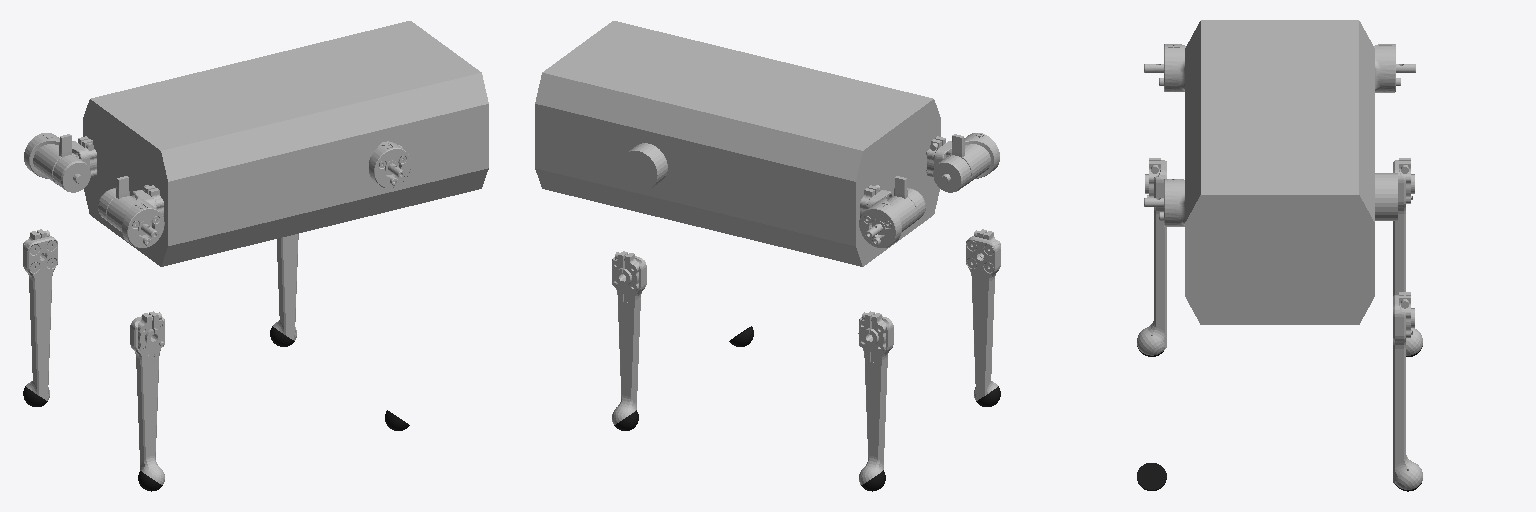
--- What the picture shows (computed from the rendered views, not written in the file) ---
The picture shows the robot from 3 angles, left to right: view 1: azimuth 30°, elevation 25°; view 2: azimuth 150°, elevation 25°; view 3: azimuth 270°, elevation 25°; orthographic projection.
Model pupperv2_description with 25 links and 24 joints (12 revolute, 12 fixed), rooted at base_link, posed every joint at zero.
Links seen in each view (by area): view 1: base_link, RR_lower_leg, RL_lower_leg, RL_hip, RR_hip, FL_lower_leg, FR_hip; view 2: base_link, RL_lower_leg, FL_lower_leg, RR_lower_leg, RR_hip, RL_hip, FL_hip; view 3: base_link, FL_lower_leg, RR_lower_leg, RL_lower_leg, RL_hip, FR_hip, RR_hip, FL_hip, FR_toe.
Link boxes in pixels (x1=…): base_link: x1=83, y1=21, x2=488, y2=266; RR_lower_leg: x1=130, y1=311, x2=164, y2=484; RL_lower_leg: x1=23, y1=229, x2=57, y2=400; RL_hip: x1=24, y1=133, x2=97, y2=192; RR_hip: x1=98, y1=176, x2=164, y2=247; FL_lower_leg: x1=273, y1=234, x2=298, y2=340; FR_hip: x1=369, y1=141, x2=410, y2=187; base_link: x1=535, y1=21, x2=940, y2=266; RL_lower_leg: x1=858, y1=311, x2=893, y2=484; FL_lower_leg: x1=612, y1=251, x2=646, y2=424; RR_lower_leg: x1=966, y1=229, x2=1000, y2=400; RR_hip: x1=926, y1=133, x2=999, y2=192; RL_hip: x1=859, y1=176, x2=925, y2=247; FL_hip: x1=620, y1=143, x2=667, y2=190; base_link: x1=1185, y1=20, x2=1374, y2=324; FL_lower_leg: x1=1393, y1=292, x2=1422, y2=489; RR_lower_leg: x1=1137, y1=158, x2=1166, y2=355; RL_lower_leg: x1=1393, y1=158, x2=1422, y2=355; RL_hip: x1=1374, y1=44, x2=1415, y2=92; FR_hip: x1=1144, y1=179, x2=1184, y2=226; RR_hip: x1=1144, y1=44, x2=1185, y2=91; FL_hip: x1=1375, y1=173, x2=1397, y2=220; FR_toe: x1=1137, y1=463, x2=1166, y2=490.
Size in the robot's own frame: 0.3005 by 0.1804 by 0.2445 metres.
11 mesh visuals loaded from 18 distinct referenced files (10 binary STL, 1 OBJ); not drawn: 7 (reference not matched to a file when rendering).

The robot description file, URDF, robot "pupperv2_description":
<?xml version="1.0" encoding="utf-8"?>
<!-- =================================================================================== -->
<!-- |    This document was autogenerated by xacro from pupperv2_description_lite.urdf.xacro | -->
<!-- |    EDITING THIS FILE BY HAND IS NOT RECOMMENDED                                 | -->
<!-- =================================================================================== -->
<!-- This URDF was automatically created by SolidWorks to URDF Exporter! Originally created by Stephen Brawner ([email redacted]) 
     Commit Version: 1.5.1-0-g916b5db  Build Version: 1.5.7152.31018
     For more information, please see http://wiki.ros.org/sw_urdf_exporter -->
<robot name="pupperv2_description">
  <!-- Enable Gazebo ROS Control -->
  <gazebo>
    <plugin filename="libgazebo_ros_control.so" name="gazebo_ros_control">
      <legacyModeNS>true</legacyModeNS>
      <robotSimType>gazebo_ros_control/DefaultRobotHWSim</robotSimType>
    </plugin>
  </gazebo>
  <joint name="hokuyo_joint" type="fixed">
    <origin rpy="0 0 0" xyz="0.0 0.0 0.08661"/>
    <parent link="base_link"/>
    <child link="hokuyo_frame"/>
  </joint>
  <link name="hokuyo_frame">
    <inertial>
      <mass value="0.270"/>
      <origin rpy="0 0 0" xyz="0 0 0"/>
      <inertia ixx="2.632e-4" ixy="0" ixz="0" iyy="2.632e-4" iyz="0" izz="1.62e-4"/>
    </inertial>
    <visual>
      <origin rpy="0 0 0" xyz="0 0 0"/>
      <geometry>
        <mesh filename="package://hector_sensors_description/meshes/hokuyo_utm30lx/hokuyo_utm_30lx.dae"/>
      </geometry>
    </visual>
    <collision>
      <origin rpy="0 0 0" xyz="0 0 -0.0115"/>
      <geometry>
        <box size="0.058 0.058 0.087"/>
        <!--<mesh filename="package://hector_sensors_description/meshes/hokuyo_utm30lx/hokuyo_utm_30lx.stl"/>-->
      </geometry>
    </collision>
  </link>
  <gazebo reference="hokuyo_frame">
    <sensor name="hokuyo" type="ray">
      <always_on>true</always_on>
      <update_rate>30</update_rate>
      <pose>0 0 0 0 0 0</pose>
      <visualize>false</visualize>
      <ray>
        <scan>
          <horizontal>
            <samples>1040</samples>
            <resolution>1</resolution>
            <min_angle>2.26892802759</min_angle>
            <max_angle>-2.26892802759</max_angle>
          </horizontal>
        </scan>
        <range>
          <min>0.2</min>
          <max>30.0</max>
          <resolution>0.01</resolution>
        </range>
        <noise>
          <type>gaussian</type>
          <mean>0.0</mean>
          <stddev>0.004</stddev>
        </noise>
      </ray>
      <plugin filename="libgazebo_ros_laser.so" name="gazebo_ros_hokuyo_controller">
        <topicName>scan</topicName>
        <frameName>hokuyo_frame</frameName>
      </plugin>
    </sensor>
  </gazebo>
  <joint name="camera_joint" type="fixed">
    <origin rpy="0 0 0" xyz="0.13641 0.0 -0.05661"/>
    <parent link="base_link"/>
    <child link="camera_link"/>
  </joint>
  <link name="camera_link">
    <inertial>
      <mass value="0.200"/>
      <origin rpy="0 0 0" xyz="0 0 0"/>
      <inertia ixx="5.8083e-4" ixy="0" ixz="0" iyy="3.0833e-5" iyz="0" izz="5.9083e-4"/>
    </inertial>
    <visual>
      <origin rpy="0 0 0" xyz="0 0 0"/>
      <geometry>
        <mesh filename="package://hector_sensors_description/meshes/asus_camera/asus_camera_simple.dae"/>
      </geometry>
    </visual>
    <!--        
       <collision>
          <origin xyz="0 0 0" rpy="0 0 0" />
          <geometry>
            <box size="0.035 0.185 0.025"/>
          </geometry>
        </collision>
        -->
    <collision>
      <origin rpy="0 0 0" xyz="0 0 0"/>
      <geometry>
        <mesh filename="package://hector_sensors_description/meshes/asus_camera/asus_camera_simple.dae"/>
      </geometry>
    </collision>
  </link>
  <joint name="camera_depth_joint" type="fixed">
    <origin rpy="0 0 0" xyz="0.0 0.049 0.0"/>
    <parent link="camera_link"/>
    <child link="camera_depth_frame"/>
  </joint>
  <link name="camera_depth_frame"/>
  <joint name="camera_depth_optical_joint" type="fixed">
    <origin rpy="-1.57079632679 0.0 -1.57079632679" xyz="0 0 0"/>
    <parent link="camera_depth_frame"/>
    <child link="camera_depth_optical_frame"/>
  </joint>
  <link name="camera_depth_optical_frame"/>
  <joint name="camera_rgb_joint" type="fixed">
    <origin rpy="0 0 0" xyz="0.0 0.022 0.0"/>
    <parent link="camera_link"/>
    <child link="camera_rgb_frame"/>
  </joint>
  <link name="camera_rgb_frame"/>
  <joint name="camera_rgb_optical_joint" type="fixed">
    <origin rpy="-1.57079632679 0.0 -1.57079632679" xyz="0 0 0"/>
    <parent link="camera_rgb_frame"/>
    <child link="camera_rgb_optical_frame"/>
  </joint>
  <link name="camera_rgb_optical_frame"/>
  <!-- ASUS Xtion PRO camera for simulation -->
  <gazebo reference="camera_depth_frame">
    <sensor name="camera" type="depth">
      <update_rate>20</update_rate>
      <camera>
        <horizontal_fov>1.09606677025</horizontal_fov>
        <image>
          <format>R8G8B8</format>
          <width>640</width>
          <height>480</height>
        </image>
        <clip>
          <near>0.5</near>
          <far>9</far>
        </clip>
      </camera>
      <plugin filename="libgazebo_ros_openni_kinect.so" name="camera_camera_controller">
        <imageTopicName>camera/rgb/image_raw</imageTopicName>
        <cameraInfoTopicName>camera/rgb/camera_info</cameraInfoTopicName>
        <depthImageTopicName>camera/depth/image_raw</depthImageTopicName>
        <depthImageCameraInfoTopicName>camera/depth/camera_info</depthImageCameraInfoTopicName>
        <pointCloudTopicName>camera/depth/points</pointCloudTopicName>
        <frameName>camera_depth_optical_frame</frameName>
      </plugin>
    </sensor>
  </gazebo>
  <gazebo>
    <plugin filename="libhector_gazebo_ros_imu.so" name="imu_controller">
      <updateRate>50.0</updateRate>
      <bodyName>imu_link</bodyName>
      <topicName>imu/data</topicName>
      <accelDrift>0.005 0.005 0.005</accelDrift>
      <accelGaussianNoise>0.005 0.005 0.005</accelGaussianNoise>
      <rateDrift>0.005 0.005 0.005 </rateDrift>
      <rateGaussianNoise>0.005 0.005 0.005 </rateGaussianNoise>
      <headingDrift>0.005</headingDrift>
      <headingGaussianNoise>0.005</headingGaussianNoise>
    </plugin>
  </gazebo>
  <link name="imu_link">
    <inertial>
      <mass value="0.001"/>
      <origin rpy="0 0 0" xyz="0 0 0"/>
      <inertia ixx="1e-09" ixy="0.0" ixz="0.0" iyy="1e-09" iyz="0.0" izz="1e-09"/>
    </inertial>
  </link>
  <joint name="imu_joint" type="fixed">
    <parent link="base_link"/>
    <child link="imu_link"/>
  </joint>
  <!-- <xacro:include filename="$(find velodyne_description)/urdf/VLP-16.urdf.xacro"/>
        <xacro:VLP-16 parent="${base_name}" name="velodyne" topic="velodyne_points" hz="10" samples="1024" gpu="false" lasers="16" max_range="100">
            <origin xyz="0 0 ${base_height / 2}" rpy="0 0 0" />
        </xacro:VLP-16>
        <xacro:include filename="$(find champ_arm_description)/urdf/champ_arm.urdf.xacro" />
        <xacro:champ_arm parent="${base_name}">
            <origin xyz="0.07 0.0 ${base_height / 2}" rpy="0 0 0"/>
        </xacro:champ_arm> -->
  <gazebo>
    <plugin filename="libgazebo_ros_p3d.so" name="p3d_base_controller">
      <alwaysOn>true</alwaysOn>
      <updateRate>10.0</updateRate>
      <bodyName>base_link</bodyName>
      <topicName>odom/ground_truth</topicName>
      <gaussianNoise>0.01</gaussianNoise>
      <frameName>world</frameName>
      <xyzOffsets>0 0 0</xyzOffsets>
      <rpyOffsets>0 0 0</rpyOffsets>
    </plugin>
  </gazebo>
  <!-- Solidworks to URDF (Mostly) -->
  <link name="base_link">
    <visual>
      <origin rpy="0 0 0" xyz="0 0 0"/>
      <geometry>
        <mesh filename="package://pupperv2_description/obj_meshes/Cube003.obj"/>
      </geometry>
      <material name="">
        <color rgba="0.75294 0.75294 0.75294 1"/>
      </material>
    </visual>
    <collision>
      <origin rpy="0 0 0" xyz="0 0 0"/>
      <geometry>
        <mesh filename="package://pupperv2_description/obj_meshes/Cube003.obj"/>
      </geometry>
    </collision>
  </link>
  <link name="base_inertia">
    <inertial>
      <origin rpy="0 0 0" xyz="4.4516E-07 -2.0991E-07 3.7751E-06"/>
      <mass value="0.37691"/>
      <inertia ixx="0.00038775" ixy="1.1873E-06" ixz="-9.237E-07" iyy="0.00085802" iyz="1.7272E-07" izz="0.0010086"/>
    </inertial>
  </link>
  <joint name="base_link_base_inertia" type="fixed">
    <parent link="base_link"/>
    <child link="base_inertia"/>
  </joint>
  <link name="FL_hip">
    <inertial>
      <origin rpy="0 0 0" xyz="0.01877 0.0032945 0.00038989"/>
      <mass value="0.032035"/>
      <inertia ixx="5.9933E-06" ixy="4.4808E-07" ixz="2.4371E-10" iyy="2.9538E-06" iyz="6.1996E-08" izz="5.7278E-06"/>
    </inertial>
    <visual>
      <origin rpy="1.57079632679 0 0" xyz="0.00795 0.00329 0.00039"/>
      <geometry>
        <!--mesh
          filename="package://pupperv2_description/meshes/FL_hip.STL" /-->
        <cylinder length="0.0483" radius="0.0152"/>
      </geometry>
      <material name="">
        <color rgba="0.75294 0.75294 0.75294 1"/>
      </material>
    </visual>
    <collision>
      <origin rpy="0 0 0" xyz="0 0 0"/>
      <geometry>
        <!--mesh
          filename="package://pupperv2_description/meshes/FL_hip.STL" /-->
        <box size="0.03569 0.0483 0.025"/>
      </geometry>
    </collision>
  </link>
  <joint name="base_link_FL_hip" type="revolute">
    <origin rpy="0 0 0" xyz="0.036007 0.0466 0.00461"/>
    <parent link="base_link"/>
    <child link="FL_hip"/>
    <axis xyz="1 0 0"/>
    <limit effort="100" lower="-0.7854" upper="0.7854" velocity="2.5"/>
  </joint>
  <link name="FL_upper_leg">
    <inertial>
      <origin rpy="0 0 0" xyz="0.00011578 0.025203 -0.048064"/>
      <mass value="0.054665"/>
      <inertia ixx="2.4386E-05" ixy="1.682E-10" ixz="2.6061E-07" iyy="2.3437E-05" iyz="2.7137E-07" izz="6.6679E-06"/>
    </inertial>
    <visual>
      <origin rpy="0 0 0" xyz="0 0 0"/>
      <geometry>
        <mesh filename="package://pupperv2_description/meshes/FL_upper_leg.STL"/>
      </geometry>
      <material name="">
        <color rgba="0.75294 0.75294 0.75294 1"/>
      </material>
    </visual>
    <collision>
      <origin rpy="0 0 0" xyz="0 0 0"/>
      <geometry>
        <mesh filename="package://pupperv2_description/meshes/FL_upper_leg.STL"/>
      </geometry>
    </collision>
  </link>
  <joint name="FL_hip_FL_upper_leg" type="revolute">
    <origin rpy="0 0 0" xyz="0.01525 0.02535 0"/>
    <parent link="FL_hip"/>
    <child link="FL_upper_leg"/>
    <axis xyz="0 1 0"/>
    <limit effort="100" lower="-1.309" upper="4.4506" velocity="2.5"/>
  </joint>
  <link name="FL_lower_leg">
    <inertial>
      <origin rpy="0 0 0" xyz="0.00028051 0.0039614 -0.040452"/>
      <mass value="0.016718"/>
      <inertia ixx="1.8319E-05" ixy="-1.9835E-08" ixz="2.3453E-07" iyy="1.8546E-05" iyz="6.7626E-07" izz="5.5282E-07"/>
    </inertial>
    <visual>
      <origin rpy="0 0 0" xyz="0 0 0"/>
      <geometry>
        <mesh filename="package://pupperv2_description/meshes/FL_lower_leg.STL"/>
      </geometry>
      <material name="">
        <color rgba="0.75294 0.75294 0.75294 1"/>
      </material>
    </visual>
    <collision>
      <origin rpy="0 0 0" xyz="0 0 0"/>
      <geometry>
        <mesh filename="package://pupperv2_description/meshes/FL_lower_leg.STL"/>
      </geometry>
    </collision>
  </link>
  <joint name="FL_upper_leg_FL_lower_leg" type="revolute">
    <origin rpy="0 0 0" xyz="0 0 -0.08"/>
    <parent link="FL_upper_leg"/>
    <child link="FL_lower_leg"/>
    <axis xyz="0 1 0"/>
    <limit effort="100" lower="-2.8798" upper="2.8798" velocity="2.5"/>
  </joint>
  <link name="FL_toe">
    <inertial>
      <origin rpy="0 0 0" xyz="-0.002296 2.7756E-17 -0.0027362"/>
      <mass value="0.0018099"/>
      <inertia ixx="5.2131E-08" ixy="-1.9882E-24" ixz="1.137E-08" iyy="4.259E-08" iyz="-9.4483E-25" izz="5.6141E-08"/>
    </inertial>
    <visual>
      <origin rpy="0 0 0" xyz="0 0 0"/>
      <geometry>
        <mesh filename="package://pupperv2_description/meshes/FL_toe.STL"/>
      </geometry>
      <material name="">
        <color rgba="0.15294 0.15294 0.15294 1"/>
      </material>
    </visual>
    <collision>
      <origin rpy="0 0 0" xyz="0 0 0"/>
      <geometry>
        <mesh filename="package://pupperv2_description/meshes/FL_toe.STL"/>
      </geometry>
    </collision>
  </link>
  <joint name="FL_lower_leg_FL_toe" type="fixed">
    <origin rpy="0 0 0" xyz="0 0.008325 -0.11"/>
    <parent link="FL_lower_leg"/>
    <child link="FL_toe"/>
    <axis xyz="0.64279 0 0.76604"/>
  </joint>
  <link name="RL_hip">
    <inertial>
      <origin rpy="0 0 0" xyz="-0.022505 0.0032945 0.00038989"/>
      <mass value="0.032035"/>
      <inertia ixx="5.9933E-06" ixy="4.4808E-07" ixz="2.4371E-10" iyy="2.9538E-06" iyz="6.1996E-08" izz="5.7278E-06"/>
    </inertial>
    <visual>
      <origin rpy="0 0 0" xyz="0 0 0"/>
      <geometry>
        <mesh filename="package://pupperv2_description/meshes/RL_hip.STL"/>
      </geometry>
      <material name="">
        <color rgba="0.75294 0.75294 0.75294 1"/>
      </material>
    </visual>
    <collision>
      <origin rpy="0 0 0" xyz="0 0 0"/>
      <geometry>
        <mesh filename="package://pupperv2_description/meshes/RL_hip.STL"/>
      </geometry>
    </collision>
  </link>
  <joint name="base_link_RL_hip" type="revolute">
    <origin rpy="0 0 0" xyz="-0.12272 0.0466 0.00461"/>
    <parent link="base_link"/>
    <child link="RL_hip"/>
    <axis xyz="1 0 0"/>
    <limit effort="100" lower="-0.7854" upper="0.7854" velocity="2.5"/>
  </joint>
  <link name="RL_upper_leg">
    <inertial>
      <origin rpy="0 0 0" xyz="0.00011578 0.025203 -0.048064"/>
      <mass value="0.054665"/>
      <inertia ixx="2.4386E-05" ixy="1.682E-10" ixz="2.6061E-07" iyy="2.3437E-05" iyz="2.7137E-07" izz="6.6679E-06"/>
    </inertial>
    <visual>
      <origin rpy="0 0 0" xyz="0 0 0"/>
      <geometry>
        <mesh filename="package://pupperv2_description/meshes/RL_upper_leg.STL"/>
      </geometry>
      <material name="">
        <color rgba="0.75294 0.75294 0.75294 1"/>
      </material>
    </visual>
    <collision>
      <origin rpy="0 0 0" xyz="0 0 0"/>
      <geometry>
        <mesh filename="package://pupperv2_description/meshes/RL_upper_leg.STL"/>
      </geometry>
    </collision>
  </link>
  <joint name="RL_hip_RL_upper_leg" type="revolute">
    <origin rpy="0 0.0011305 0" xyz="-0.026025 0.02535 0"/>
    <parent link="RL_hip"/>
    <child link="RL_upper_leg"/>
    <axis xyz="0 1 0"/>
    <limit effort="100" lower="-1.309" upper="4.4506" velocity="2.5"/>
  </joint>
  <link name="RL_lower_leg">
    <inertial>
      <origin rpy="0 0 0" xyz="0.00028051 0.0039614 -0.040452"/>
      <mass value="0.016718"/>
      <inertia ixx="1.8319E-05" ixy="-1.9835E-08" ixz="2.3453E-07" iyy="1.8546E-05" iyz="6.7626E-07" izz="5.5282E-07"/>
    </inertial>
    <visual>
      <origin rpy="0 0 0" xyz="0 0 0"/>
      <geometry>
        <mesh filename="package://pupperv2_description/meshes/RL_lower_leg.STL"/>
      </geometry>
      <material name="">
        <color rgba="0.75294 0.75294 0.75294 1"/>
      </material>
    </visual>
    <collision>
      <origin rpy="0 0 0" xyz="0 0 0"/>
      <geometry>
        <mesh filename="package://pupperv2_description/meshes/RL_lower_leg.STL"/>
      </geometry>
    </collision>
  </link>
  <joint name="RL_upper_leg_RL_lower_leg" type="revolute">
    <origin rpy="0 -0.0011305 0" xyz="0 0 -0.08"/>
    <parent link="RL_upper_leg"/>
    <child link="RL_lower_leg"/>
    <axis xyz="0 1 0"/>
    <limit effort="100" lower="-2.8798" upper="2.8798" velocity="2.5"/>
  </joint>
  <link name="RL_toe">
    <inertial>
      <origin rpy="0 0 0" xyz="-0.002296 0 -0.0027362"/>
      <mass value="0.0018099"/>
      <inertia ixx="5.2131E-08" ixy="-1.082E-24" ixz="1.137E-08" iyy="4.259E-08" iyz="-9.2836E-25" izz="5.6141E-08"/>
    </inertial>
    <visual>
      <origin rpy="0 0 0" xyz="0 0 0"/>
      <geometry>
        <mesh filename="package://pupperv2_description/meshes/RL_toe.STL"/>
      </geometry>
      <material name="">
        <color rgba="0.15294 0.15294 0.15294 1"/>
      </material>
    </visual>
    <collision>
      <origin rpy="0 0 0" xyz="0 0 0"/>
      <geometry>
        <mesh filename="package://pupperv2_description/meshes/RL_toe.STL"/>
      </geometry>
    </collision>
  </link>
  <joint name="RL_lower_leg_RL_toe" type="fixed">
    <origin rpy="0 0 0" xyz="0 0.008325 -0.11"/>
    <parent link="RL_lower_leg"/>
    <child link="RL_toe"/>
    <axis xyz="0.64279 0 0.76604"/>
  </joint>
  <link name="FR_hip">
    <inertial>
      <origin rpy="0 0 0" xyz="0.018798 -0.0032741 0.00039709"/>
      <mass value="0.032069"/>
      <inertia ixx="5.9912E-06" ixy="-4.4714E-07" ixz="1.8534E-10" iyy="2.954E-06" iyz="-6.2909E-08" izz="5.7295E-06"/>
    </inertial>
    <visual>
      <origin rpy="0 0 0" xyz="0 0 0"/>
      <geometry>
        <mesh filename="package://pupperv2_description/meshes/FR_hip.STL"/>
      </geometry>
      <material name="">
        <color rgba="0.75294 0.75294 0.75294 1"/>
      </material>
    </visual>
    <collision>
      <origin rpy="0 0 0" xyz="0 0 0"/>
      <geometry>
        <mesh filename="package://pupperv2_description/meshes/FR_hip.STL"/>
      </geometry>
    </collision>
  </link>
  <joint name="base_link_FR_hip" type="revolute">
    <origin rpy="0 0 0" xyz="0.035885 -0.0474 0.00461"/>
    <parent link="base_link"/>
    <child link="FR_hip"/>
    <axis xyz="1 0 0"/>
    <limit effort="100" lower="-0.7854" upper="0.7854" velocity="2.5"/>
  </joint>
  <link name="FR_upper_leg">
    <inertial>
      <origin rpy="0 0 0" xyz="-0.00011578 -0.025203 -0.048064"/>
      <mass value="0.054665"/>
      <inertia ixx="2.4386E-05" ixy="1.682E-10" ixz="-2.6061E-07" iyy="2.3437E-05" iyz="-2.7137E-07" izz="6.6679E-06"/>
    </inertial>
    <visual>
      <origin rpy="0 0 0" xyz="0 0 0"/>
      <geometry>
        <mesh filename="package://pupperv2_description/meshes/FR_upper_leg.STL"/>
      </geometry>
      <material name="">
        <color rgba="0.75294 0.75294 0.75294 1"/>
      </material>
    </visual>
    <collision>
      <origin rpy="0 0 0" xyz="0 0 0"/>
      <geometry>
        <mesh filename="package://pupperv2_description/meshes/FR_upper_leg.STL"/>
      </geometry>
    </collision>
  </link>
  <joint name="FR_hip_FR_upper_leg" type="revolute">
    <origin rpy="0 0 0" xyz="0.015252 -0.02535 0"/>
    <parent link="FR_hip"/>
    <child link="FR_upper_leg"/>
    <axis xyz="0 1 0"/>
    <limit effort="100" lower="-4.4506" upper="1.309" velocity="2.5"/>
  </joint>
  <link name="FR_lower_leg">
    <inertial>
      <origin rpy="0 0 0" xyz="0.00028375 -0.0039771 -0.040393"/>
      <mass value="0.016741"/>
      <inertia ixx="1.8313E-05" ixy="1.9858E-08" ixz="2.3431E-07" iyy="1.854E-05" iyz="-6.769E-07" izz="5.5333E-07"/>
    </inertial>
    <visual>
      <origin rpy="0 0 0" xyz="0 0 0"/>
      <geometry>
        <mesh filename="package://pupperv2_description/meshes/FR_lower_leg.STL"/>
      </geometry>
      <material name="">
        <color rgba="0.75294 0.75294 0.75294 1"/>
      </material>
    </visual>
    <collision>
      <origin rpy="0 0 0" xyz="0 0 0"/>
      <geometry>
        <mesh filename="package://pupperv2_description/meshes/FR_lower_leg.STL"/>
      </geometry>
    </collision>
  </link>
  <joint name="FR_upper_leg_FR_lower_leg" type="revolute">
    <origin rpy="0 0 0" xyz="0 0 -0.08"/>
    <parent link="FR_upper_leg"/>
    <child link="FR_lower_leg"/>
    <axis xyz="0 1 0"/>
    <limit effort="100" lower="-2.8798" upper="2.8798" velocity="2.5"/>
  </joint>
  <link name="FR_toe">
    <inertial>
      <origin rpy="0 0 0" xyz="-0.002296 6.9389E-18 -0.0027362"/>
      <mass value="0.0018099"/>
      <inertia ixx="5.2131E-08" ixy="6.2047E-25" ixz="1.137E-08" iyy="4.259E-08" iyz="9.8352E-25" izz="5.6141E-08"/>
    </inertial>
    <visual>
      <origin rpy="0 0 0" xyz="0 0 0"/>
      <geometry>
        <mesh filename="package://pupperv2_description/meshes/FR_toe.STL"/>
      </geometry>
      <material name="">
        <color rgba="0.15294 0.15294 0.15294 1"/>
      </material>
    </visual>
    <collision>
      <origin rpy="0 0 0" xyz="0 0 0"/>
      <geometry>
        <mesh filename="package://pupperv2_description/meshes/FR_toe.STL"/>
      </geometry>
    </collision>
  </link>
  <joint name="FR_lower_leg_FR_toe" type="fixed">
    <origin rpy="0 0 0" xyz="0 -0.008325 -0.11"/>
    <parent link="FR_lower_leg"/>
    <child link="FR_toe"/>
    <axis xyz="0.64279 0 0.76604"/>
  </joint>
  <link name="RR_hip">
    <inertial>
      <origin rpy="0 0 0" xyz="-0.022479 -0.0032741 0.00039709"/>
      <mass value="0.032069"/>
      <inertia ixx="5.9912E-06" ixy="-4.4714E-07" ixz="1.8534E-10" iyy="2.954E-06" iyz="-6.2909E-08" izz="5.7295E-06"/>
    </inertial>
    <visual>
      <origin rpy="0 0 0" xyz="0 0 0"/>
      <geometry>
        <mesh filename="package://pupperv2_description/meshes/RR_hip.STL"/>
      </geometry>
      <material name="">
        <color rgba="0.75294 0.75294 0.75294 1"/>
      </material>
    </visual>
    <collision>
      <origin rpy="0 0 0" xyz="0 0 0"/>
      <geometry>
        <mesh filename="package://pupperv2_description/meshes/RR_hip.STL"/>
      </geometry>
    </collision>
  </link>
  <joint name="base_link_RR_hip" type="revolute">
    <origin rpy="0 0 0" xyz="-0.12284 -0.0474 0.00461"/>
    <parent link="base_link"/>
    <child link="RR_hip"/>
    <axis xyz="1 0 0"/>
    <limit effort="100" lower="-0.7854" upper="0.7854" velocity="2.5"/>
  </joint>
  <link name="RR_upper_leg">
    <inertial>
      <origin rpy="0 0 0" xyz="-0.00011578 -0.025203 -0.048064"/>
      <mass value="0.054665"/>
      <inertia ixx="2.4386E-05" ixy="1.682E-10" ixz="-2.6061E-07" iyy="2.3437E-05" iyz="-2.7137E-07" izz="6.6679E-06"/>
    </inertial>
    <visual>
      <origin rpy="0 0 0" xyz="0 0 0"/>
      <geometry>
        <mesh filename="package://pupperv2_description/meshes/RR_upper_leg.STL"/>
      </geometry>
      <material name="">
        <color rgba="0.75294 0.75294 0.75294 1"/>
      </material>
    </visual>
    <collision>
      <origin rpy="0 0 0" xyz="0 0 0"/>
      <geometry>
        <mesh filename="package://pupperv2_description/meshes/RR_upper_leg.STL"/>
      </geometry>
    </collision>
  </link>
  <joint name="RR_hip_RR_upper_leg" type="revolute">
    <origin rpy="0 0 0" xyz="-0.026025 -0.02535 0"/>
    <parent link="RR_hip"/>
    <child link="RR_upper_leg"/>
    <axis xyz="0 1 0"/>
    <limit effort="100" lower="-4.4506" upper="1.309" velocity="2.5"/>
  </joint>
  <link name="RR_lower_leg">
    <inertial>
      <origin rpy="0 0 0" xyz="0.00028375 -0.0039771 -0.040393"/>
      <mass value="0.016741"/>
      <inertia ixx="1.8313E-05" ixy="1.9858E-08" ixz="2.3431E-07" iyy="1.854E-05" iyz="-6.769E-07" izz="5.5333E-07"/>
    </inertial>
    <visual>
      <origin rpy="0 0 0" xyz="0 0 0"/>
      <geometry>
        <mesh filename="package://pupperv2_description/meshes/RR_lower_leg.STL"/>
      </geometry>
      <material name="">
        <color rgba="0.75294 0.75294 0.75294 1"/>
      </material>
    </visual>
    <collision>
      <origin rpy="0 0 0" xyz="0 0 0"/>
      <geometry>
        <mesh filename="package://pupperv2_description/meshes/RR_lower_leg.STL"/>
      </geometry>
    </collision>
  </link>
  <joint name="RR_upper_leg_RR_lower_leg" type="revolute">
    <origin rpy="0 0 0" xyz="0 0 -0.08"/>
    <parent link="RR_upper_leg"/>
    <child link="RR_lower_leg"/>
    <axis xyz="0 1 0"/>
    <limit effort="100" lower="-2.8798" upper="2.8798" velocity="2.5"/>
  </joint>
  <link name="RR_toe">
    <inertial>
      <origin rpy="0 0 0" xyz="-0.002296 0 -0.0027362"/>
      <mass value="0.0018099"/>
      <inertia ixx="5.2131E-08" ixy="6.6018E-25" ixz="1.137E-08" iyy="4.259E-08" iyz="2.4451E-24" izz="5.6141E-08"/>
    </inertial>
    <visual>
      <origin rpy="0 0 0" xyz="0 0 0"/>
      <geometry>
        <mesh filename="package://pupperv2_description/meshes/RR_toe.STL"/>
      </geometry>
      <material name="">
        <color rgba="0.15294 0.15294 0.15294 1"/>
      </material>
    </visual>
    <collision>
      <origin rpy="0 0 0" xyz="0 0 0"/>
      <geometry>
        <mesh filename="package://pupperv2_description/meshes/RR_toe.STL"/>
      </geometry>
    </collision>
  </link>
  <joint name="RR_lower_leg_RR_toe" type="fixed">
    <origin rpy="0 0 0" xyz="0 -0.008325 -0.11"/>
    <parent link="RR_lower_leg"/>
    <child link="RR_toe"/>
    <axis xyz="0 0 0"/>
  </joint>
  <transmission name="base_link_FL_hip_trans">
    <type>transmission_interface/SimpleTransmission</type>
    <joint name="base_link_FL_hip">
      <hardwareInterface>hardware_interface/EffortJointInterface</hardwareInterface>
    </joint>
    <actuator name="base_link_FL_hip_motor">
      <hardwareInterface>hardware_interface/EffortJointInterfacce</hardwareInterface>
      <mechanicalReduction>1</mechanicalReduction>
    </actuator>
  </transmission>
  <transmission name="FL_hip_FL_upper_leg_trans">
    <type>transmission_interface/SimpleTransmission</type>
    <joint name="FL_hip_FL_upper_leg">
      <hardwareInterface>hardware_interface/EffortJointInterface</hardwareInterface>
    </joint>
    <actuator name="FL_hip_FL_upper_leg_motor">
      <hardwareInterface>hardware_interface/EffortJointInterfacce</hardwareInterface>
      <mechanicalReduction>1</mechanicalReduction>
    </actuator>
  </transmission>
  <transmission name="FL_upper_leg_FL_lower_leg_trans">
    <type>transmission_interface/SimpleTransmission</type>
    <joint name="FL_upper_leg_FL_lower_leg">
      <hardwareInterface>hardware_interface/EffortJointInterface</hardwareInterface>
    </joint>
    <actuator name="FL_upper_leg_FL_lower_leg_motor">
      <hardwareInterface>hardware_interface/EffortJointInterfacce</hardwareInterface>
      <mechanicalReduction>1</mechanicalReduction>
    </actuator>
  </transmission>
  <transmission name="base_link_FR_hip_trans">
    <type>transmission_interface/SimpleTransmission</type>
    <joint name="base_link_FR_hip">
      <hardwareInterface>hardware_interface/EffortJointInterface</hardwareInterface>
    </joint>
    <actuator name="base_link_FR_hip_motor">
      <hardwareInterface>hardware_interface/EffortJointInterfacce</hardwareInterface>
      <mechanicalReduction>1</mechanicalReduction>
    </actuator>
  </transmission>
  <transmission name="FR_hip_FR_upper_leg_trans">
    <type>transmission_interface/SimpleTransmission</type>
    <joint name="FR_hip_FR_upper_leg">
      <hardwareInterface>hardware_interface/EffortJointInterface</hardwareInterface>
    </joint>
    <actuator name="FR_hip_FR_upper_leg_motor">
      <hardwareInterface>hardware_interface/EffortJointInterfacce</hardwareInterface>
      <mechanicalReduction>1</mechanicalReduction>
    </actuator>
  </transmission>
  <transmission name="FR_upper_leg_FR_lower_leg_trans">
    <type>transmission_interface/SimpleTransmission</type>
    <joint name="FR_upper_leg_FR_lower_leg">
      <hardwareInterface>hardware_interface/EffortJointInterface</hardwareInterface>
    </joint>
    <actuator name="FR_upper_leg_FR_lower_leg_motor">
      <hardwareInterface>hardware_interface/EffortJointInterfacce</hardwareInterface>
      <mechanicalReduction>1</mechanicalReduction>
    </actuator>
  </transmission>
  <transmission name="base_link_RL_hip_trans">
    <type>transmission_interface/SimpleTransmission</type>
    <joint name="base_link_RL_hip">
      <hardwareInterface>hardware_interface/EffortJointInterface</hardwareInterface>
    </joint>
    <actuator name="base_link_RL_hip_motor">
      <hardwareInterface>hardware_interface/EffortJointInterfacce</hardwareInterface>
      <mechanicalReduction>1</mechanicalReduction>
    </actuator>
  </transmission>
  <transmission name="RL_hip_RL_upper_leg_trans">
    <type>transmission_interface/SimpleTransmission</type>
    <joint name="RL_hip_RL_upper_leg">
      <hardwareInterface>hardware_interface/EffortJointInterface</hardwareInterface>
    </joint>
    <actuator name="RL_hip_RL_upper_leg_motor">
      <hardwareInterface>hardware_interface/EffortJointInterfacce</hardwareInterface>
      <mechanicalReduction>1</mechanicalReduction>
    </actuator>
  </transmission>
  <transmission name="RL_upper_leg_RL_lower_leg_trans">
    <type>transmission_interface/SimpleTransmission</type>
    <joint name="RL_upper_leg_RL_lower_leg">
      <hardwareInterface>hardware_interface/EffortJointInterface</hardwareInterface>
    </joint>
    <actuator name="RL_upper_leg_RL_lower_leg_motor">
      <hardwareInterface>hardware_interface/EffortJointInterfacce</hardwareInterface>
      <mechanicalReduction>1</mechanicalReduction>
    </actuator>
  </transmission>
  <transmission name="base_link_RR_hip_trans">
    <type>transmission_interface/SimpleTransmission</type>
    <joint name="base_link_RR_hip">
      <hardwareInterface>hardware_interface/EffortJointInterface</hardwareInterface>
    </joint>
    <actuator name="base_link_RR_hip_motor">
      <hardwareInterface>hardware_interface/EffortJointInterfacce</hardwareInterface>
      <mechanicalReduction>1</mechanicalReduction>
    </actuator>
  </transmission>
  <transmission name="RR_hip_RR_upper_leg_trans">
    <type>transmission_interface/SimpleTransmission</type>
    <joint name="RR_hip_RR_upper_leg">
      <hardwareInterface>hardware_interface/EffortJointInterface</hardwareInterface>
    </joint>
    <actuator name="RR_hip_RR_upper_leg_motor">
      <hardwareInterface>hardware_interface/EffortJointInterfacce</hardwareInterface>
      <mechanicalReduction>1</mechanicalReduction>
    </actuator>
  </transmission>
  <transmission name="RR_upper_leg_RR_lower_leg_trans">
    <type>transmission_interface/SimpleTransmission</type>
    <joint name="RR_upper_leg_RR_lower_leg">
      <hardwareInterface>hardware_interface/EffortJointInterface</hardwareInterface>
    </joint>
    <actuator name="RR_upper_leg_RR_lower_leg_motor">
      <hardwareInterface>hardware_interface/EffortJointInterfacce</hardwareInterface>
      <mechanicalReduction>1</mechanicalReduction>
    </actuator>
  </transmission>
  <gazebo reference="FL_toe">
    <kp>1000000</kp>
    <kd>1.0</kd>
    <mu1>0.8</mu1>
    <mu2>0.8</mu2>
    <maxVel>0.0</maxVel>
    <minDepth>0.001</minDepth>
  </gazebo>
  <gazebo reference="RL_toe">
    <kp>1000000</kp>
    <kd>1.0</kd>
    <mu1>0.8</mu1>
    <mu2>0.8</mu2>
    <maxVel>0.0</maxVel>
    <minDepth>0.001</minDepth>
  </gazebo>
  <gazebo reference="FR_toe">
    <kp>1000000</kp>
    <kd>1.0</kd>
    <mu1>0.8</mu1>
    <mu2>0.8</mu2>
    <maxVel>0.0</maxVel>
    <minDepth>0.001</minDepth>
  </gazebo>
  <gazebo reference="RR_toe">
    <kp>1000000</kp>
    <kd>1.0</kd>
    <mu1>0.8</mu1>
    <mu2>0.8</mu2>
    <maxVel>0.0</maxVel>
    <minDepth>0.001</minDepth>
  </gazebo>
</robot>
